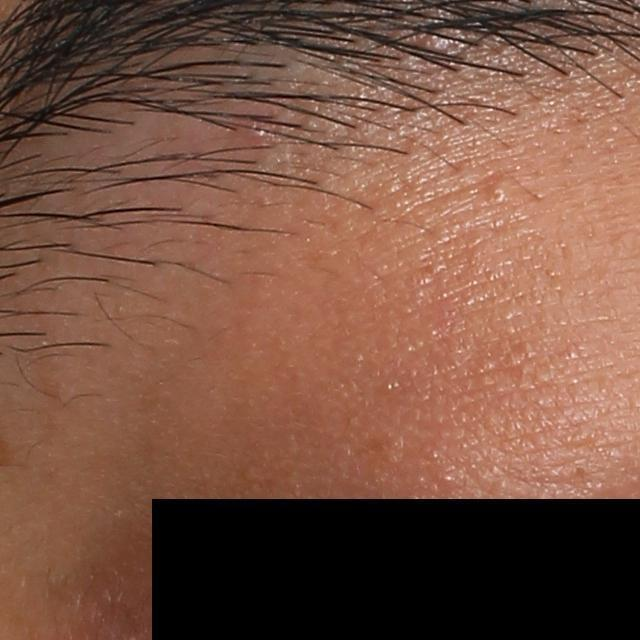comedo: (486, 183, 512, 207)
